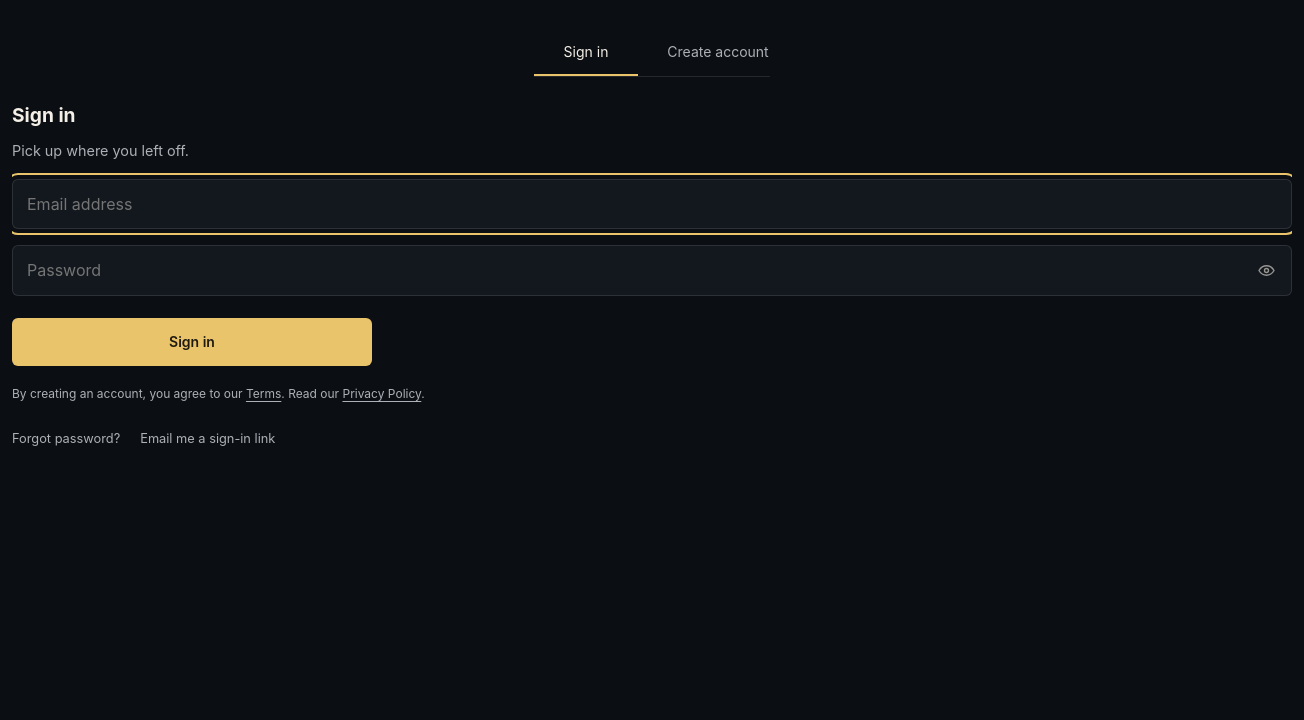
Test: unconfirmed login offers a confirmation resend
The image size is (1304, 720).
Type "viewer@example.com" into the field labelled "Email address" at [652, 204], box [12,178,1292,229]
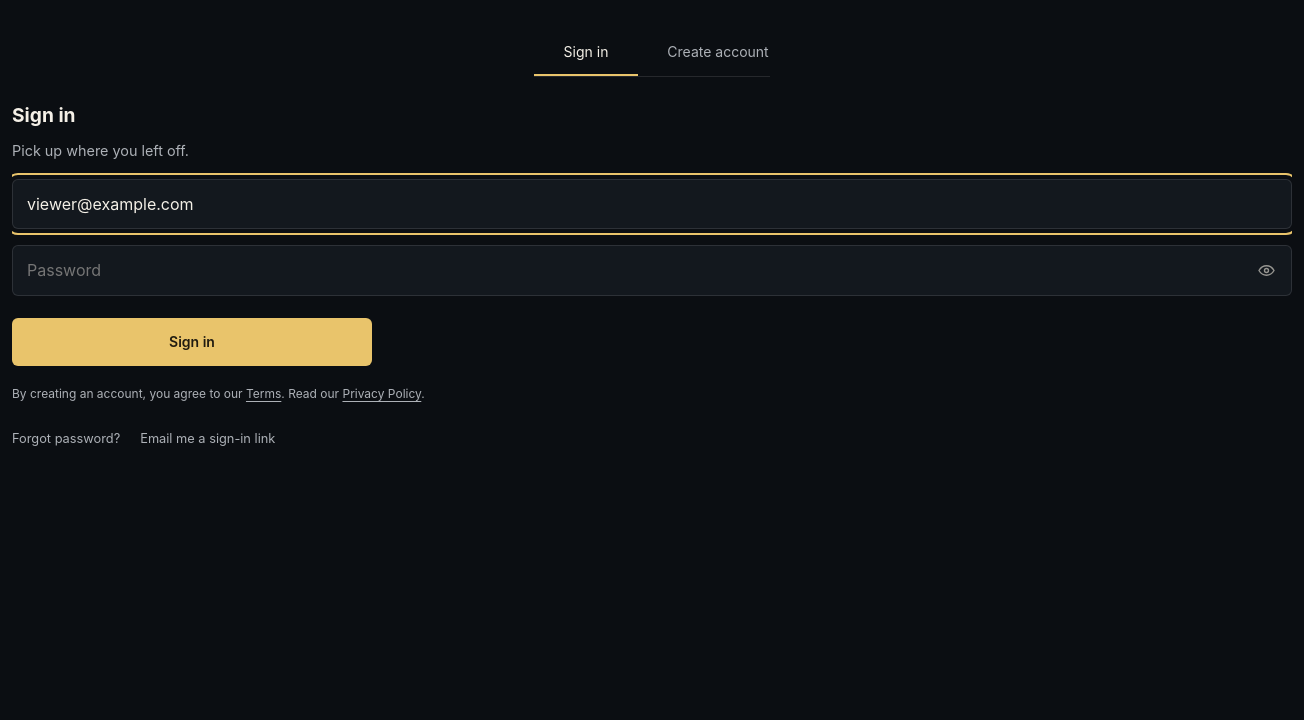
Type "password1" into the password field labelled "Password" at [652, 271], box [12,245,1292,296]
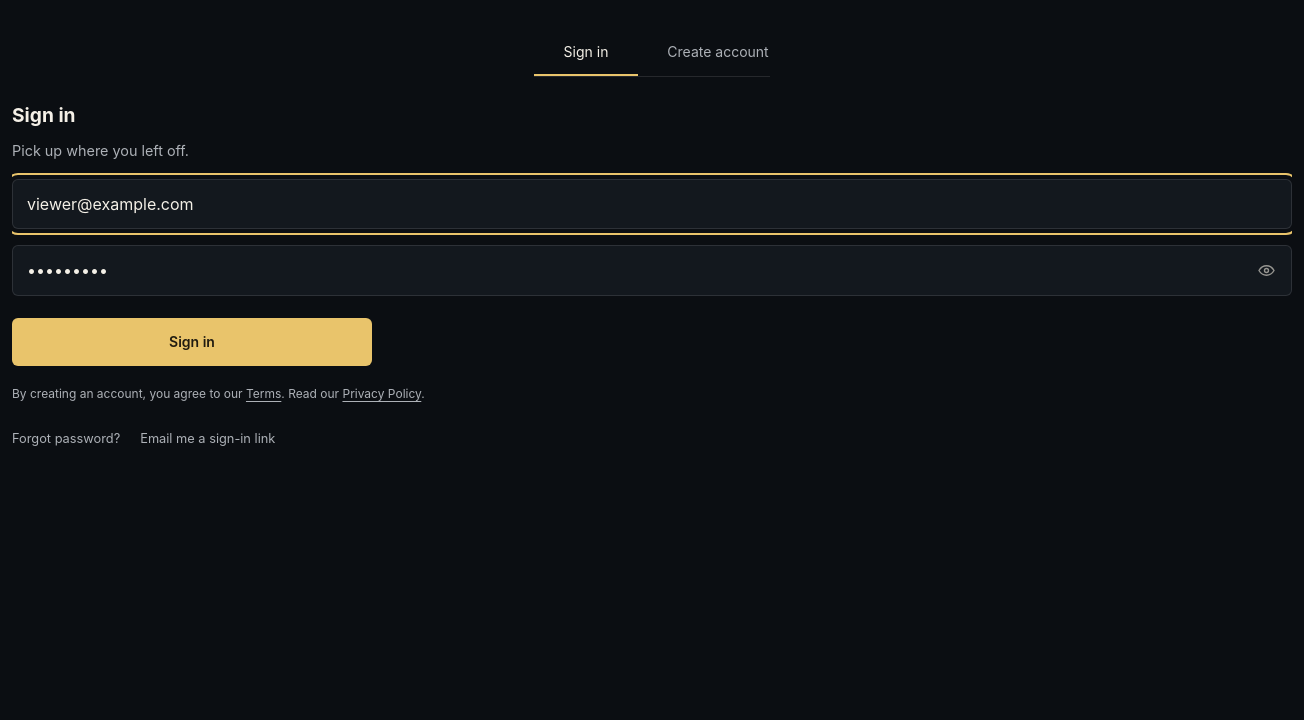
Click the button "Sign in" at [192, 342], box [12,318,372,366]
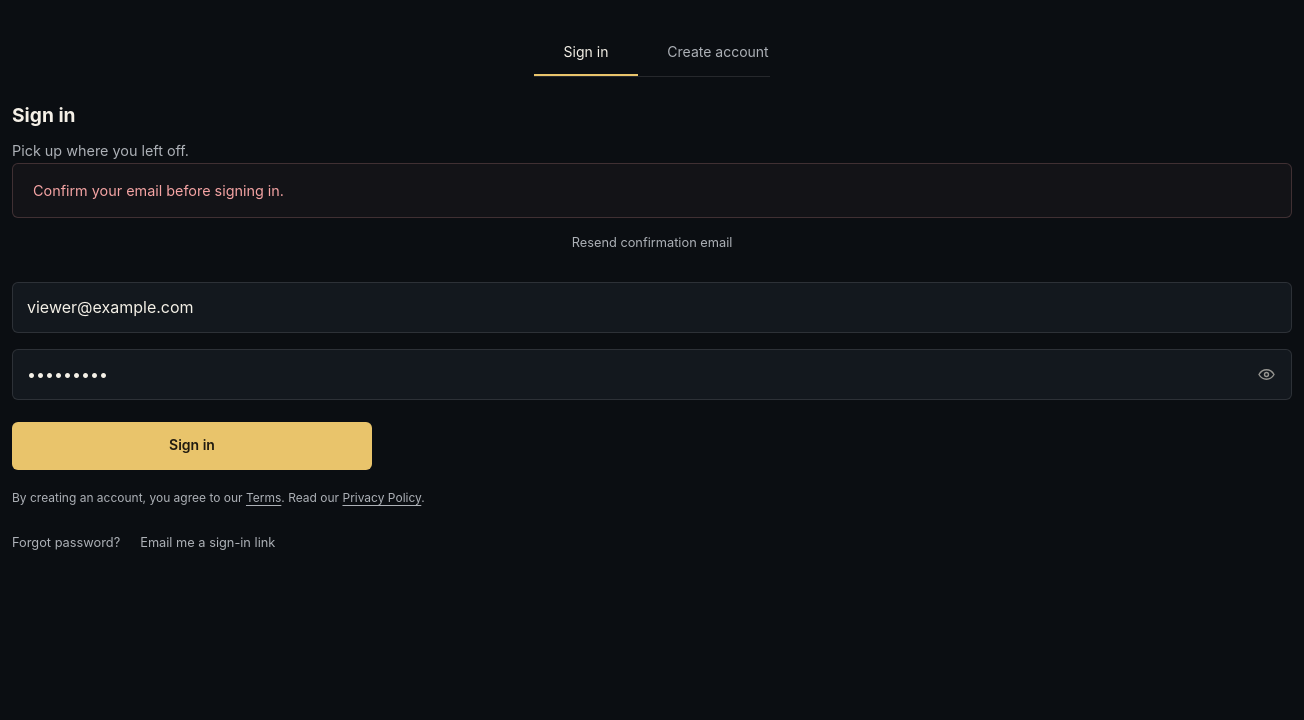
Click the button "Resend confirmation email" at [652, 244], box [12,222,1292,266]
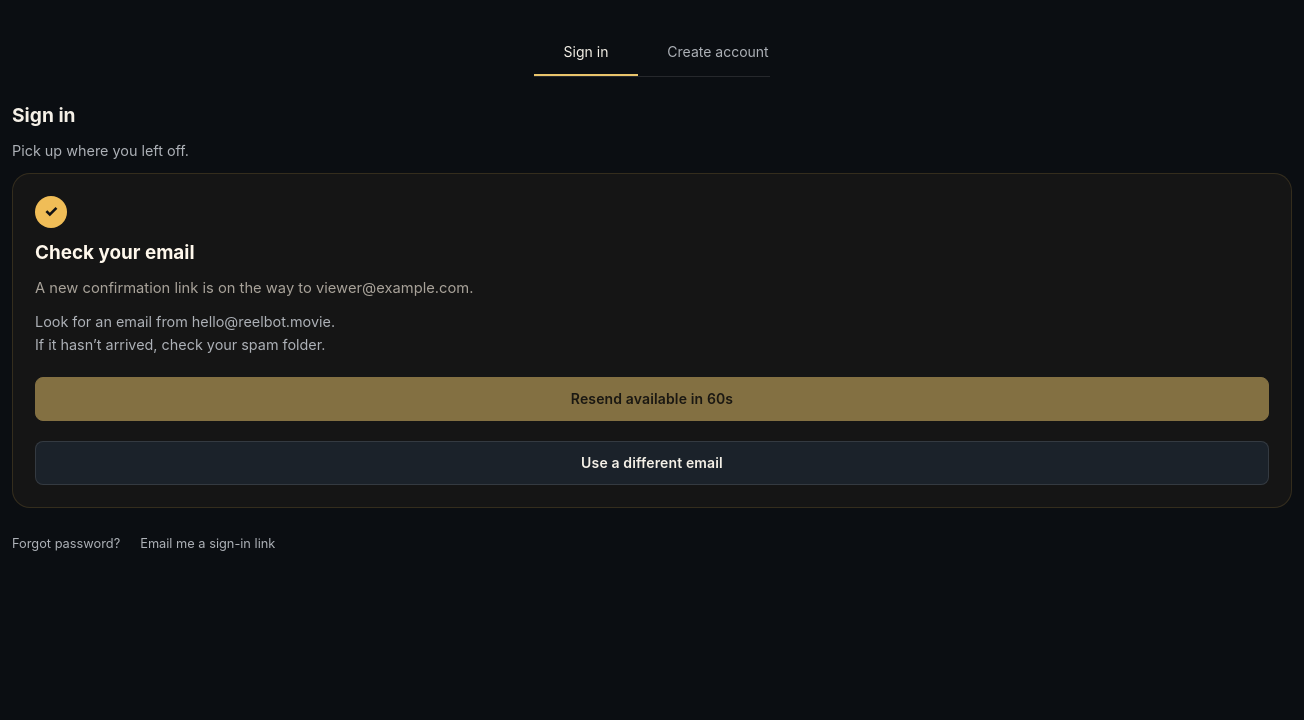
Now the text "A new confirmation link is on the way to viewer@example.com." is shown, box [35,277,474,300]
